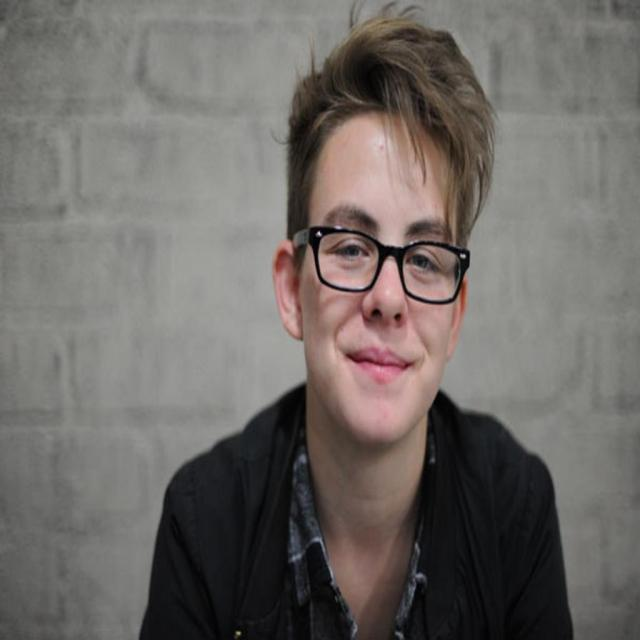Face: (311, 106, 464, 435)
